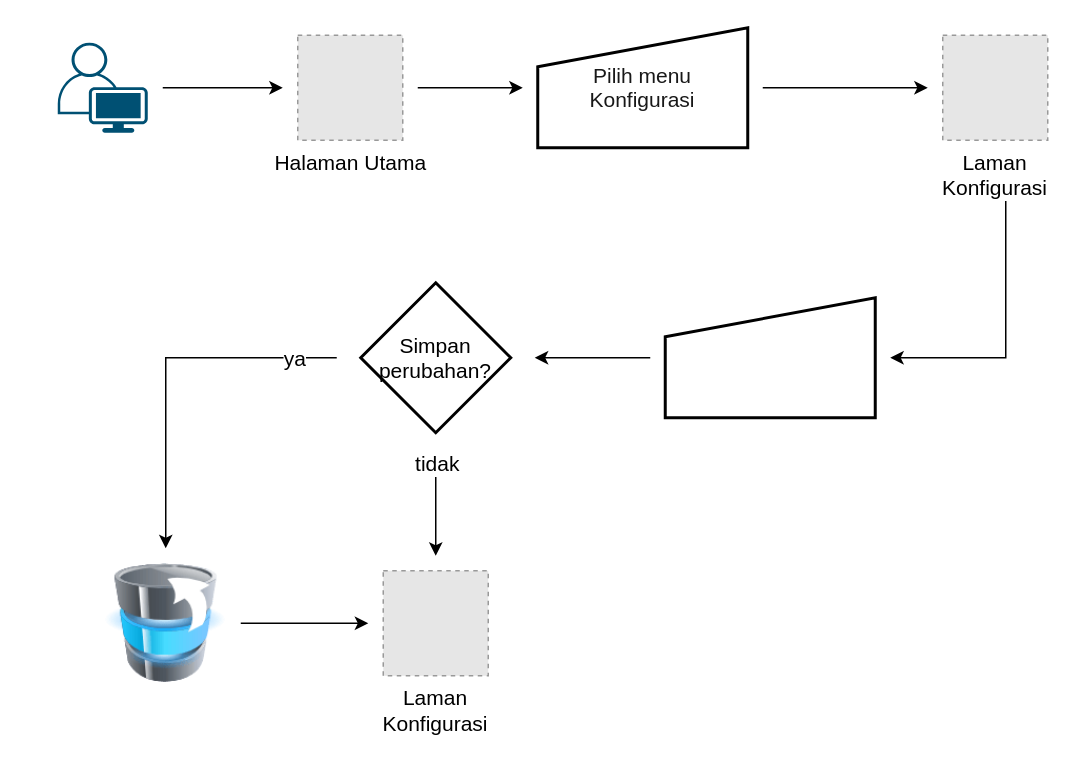
Some shapes in this 1074 by 762 pixel diagram are drawn without their labels. Grey dashed boxes stand in for pictures. Each missing label, with the centre of its shape:
"Admin SKHSDM" belongs at (x=102, y=87).
"Ubah pengaturan" belongs at (x=769, y=357).
"Update Data" belongs at (x=165, y=622).
